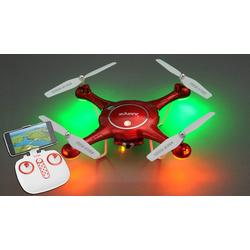drone: (39, 58, 214, 163)
